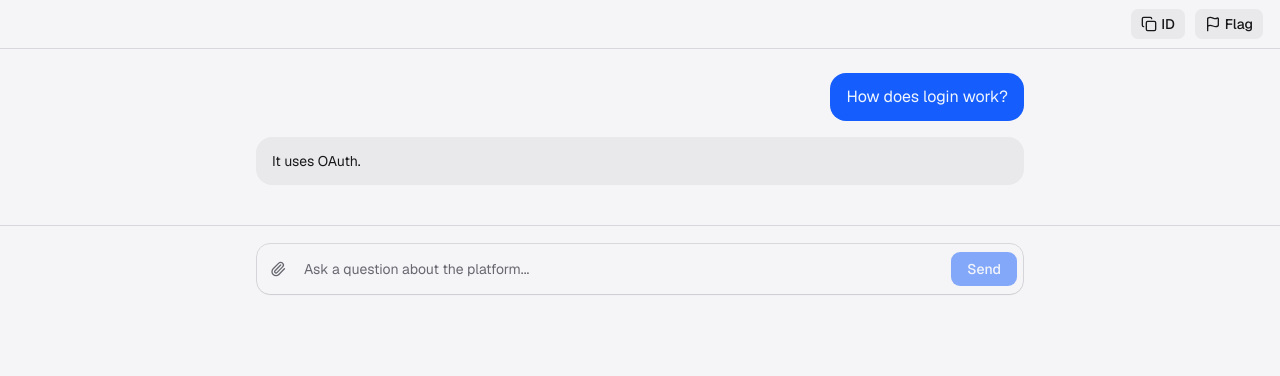
Test case: ChatThread › a notice from a previous turn does not linger into the next one
Expected: the text "It uses OAuth." is shown, [272,152,361,170]
Step 1. Type "First?" into the text box named "message" → {"x": 622, "y": 269}, box [294,251,950,287]
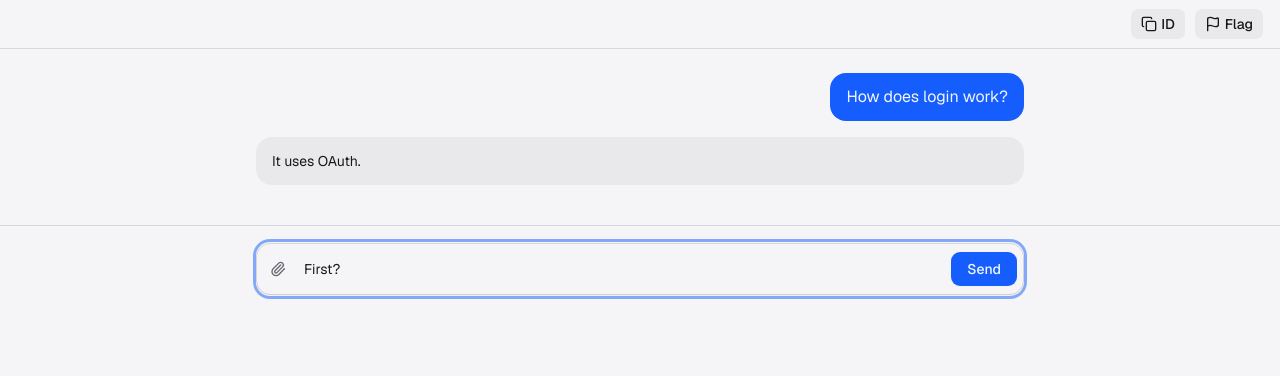
Step 2. Click the button "Send" → {"x": 984, "y": 269}, box [950,251,1018,287]
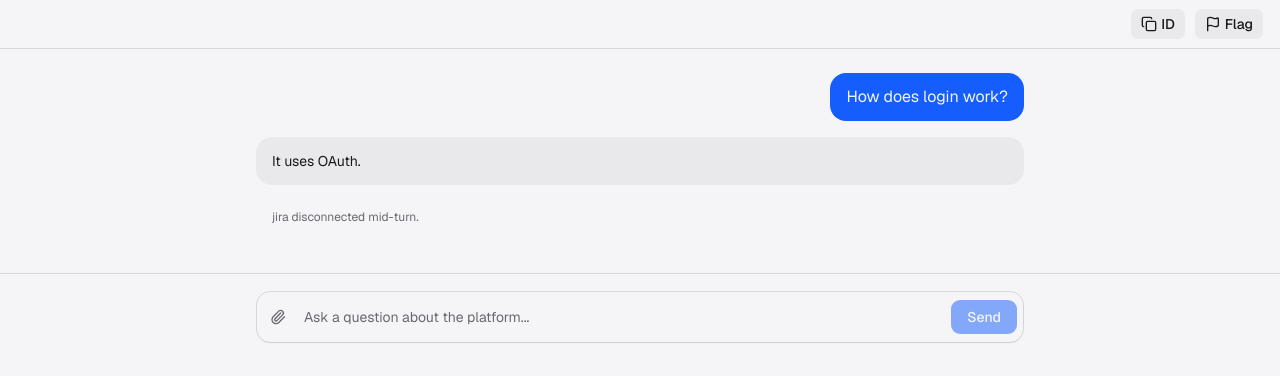
Expected: the text "jira disconnected mid-turn." is shown, [272,209,419,225]
Step 3. Type "Second?" into the text box named "message" → {"x": 622, "y": 317}, box [294,299,950,335]
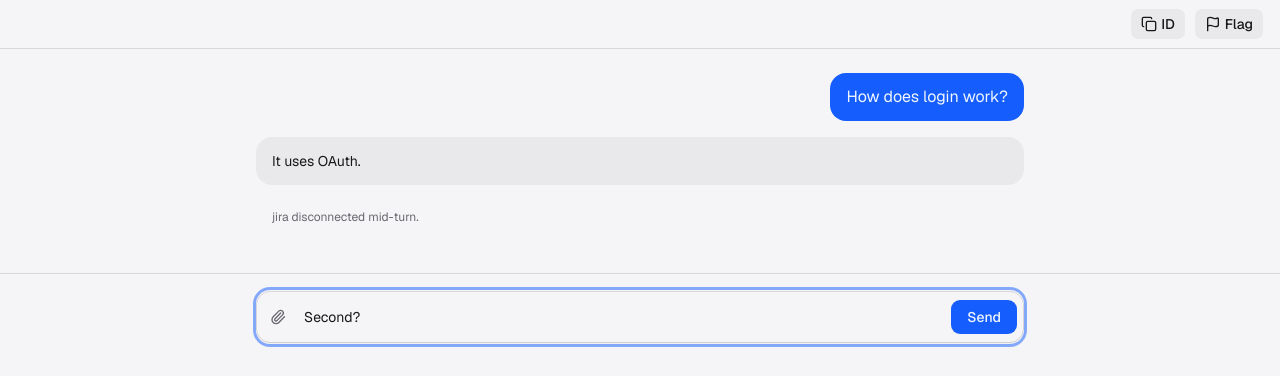
Step 4. Click the button "Send" → {"x": 984, "y": 317}, box [950,299,1018,335]
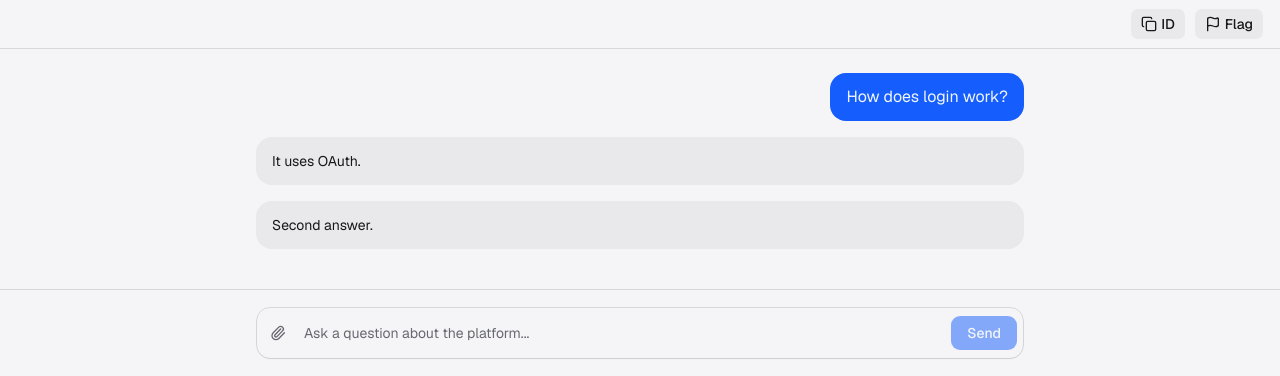
Expected: the text "Second answer." is shown, [272,216,373,234]
Expected: the text "jira disconnected mid-turn." is gone
